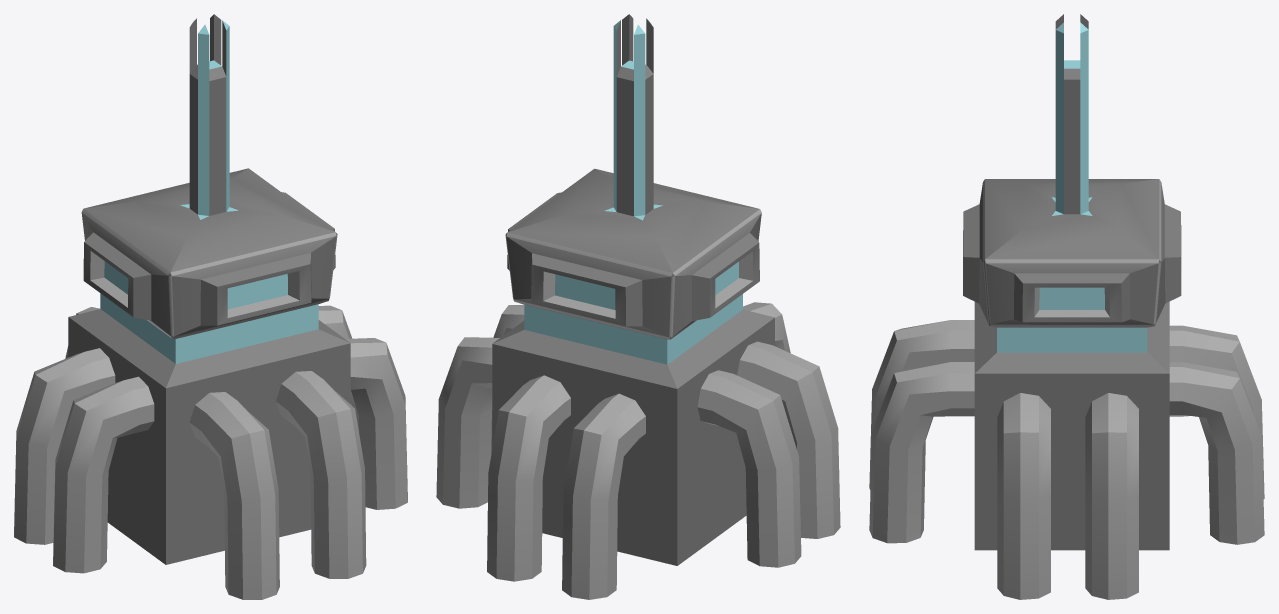
The model's file is Computing Core.fbx.
The picture shows the model from 3 angles, left to right: view 1: azimuth 30°, elevation 25°; view 2: azimuth 150°, elevation 25°; view 3: azimuth 270°, elevation 25°; orthographic projection.
Parts seen in each view (by area): view 1: Computer_Core; view 2: Computer_Core; view 3: Computer_Core.
Boxes of the visible parts, left/top/right/bottom form: Computer_Core: left=14, top=14, right=407, bottom=599; Computer_Core: left=436, top=14, right=840, bottom=599; Computer_Core: left=869, top=14, right=1264, bottom=599.
Size of the model in its own units: 22.41 by 30.45 by 21.91.
